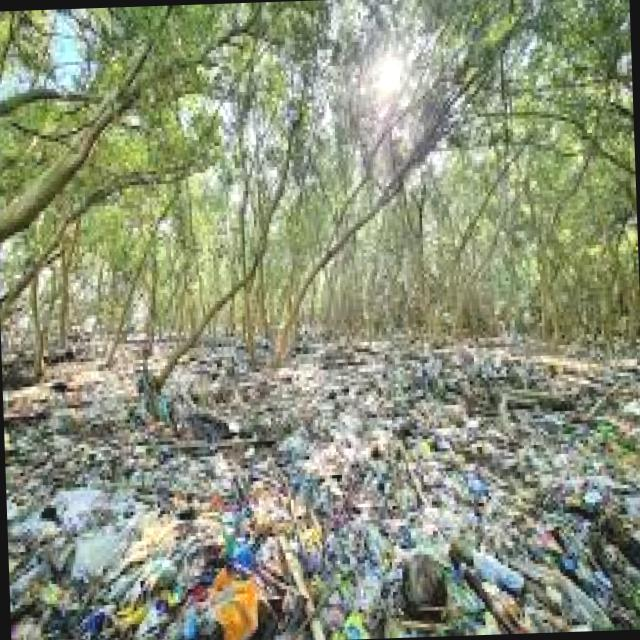garbage: (4, 327, 638, 640)
